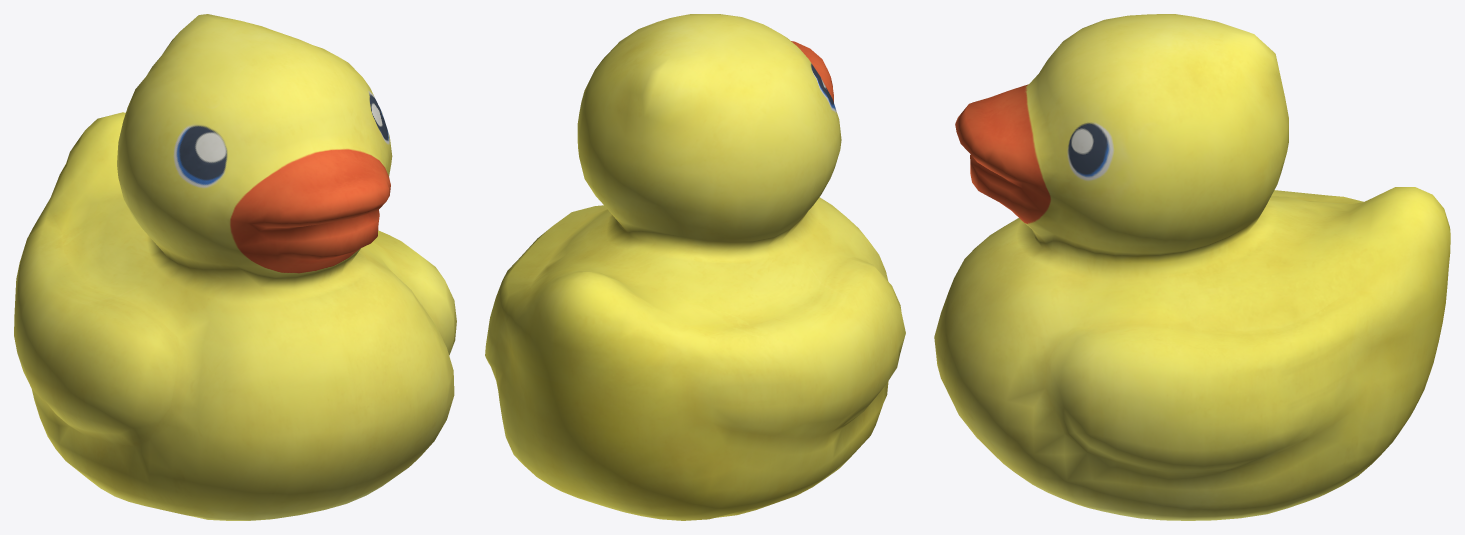
File: duck.glb
The picture shows the model from 3 angles, left to right: view 1: azimuth 30°, elevation 25°; view 2: azimuth 150°, elevation 25°; view 3: azimuth 270°, elevation 25°; orthographic projection. The views are drawn at different scales.
Parts seen in each view (by area): view 1: Duck_low; view 2: Duck_low; view 3: Duck_low.
Boxes of the visible parts, x1,y1,x2,y2 form: Duck_low: [14, 14, 456, 520]; Duck_low: [485, 14, 905, 520]; Duck_low: [934, 14, 1450, 520].
Bounding box in the file's own units: 0.6211 × 0.6809 × 0.7349.
1 material, 1 textured.
